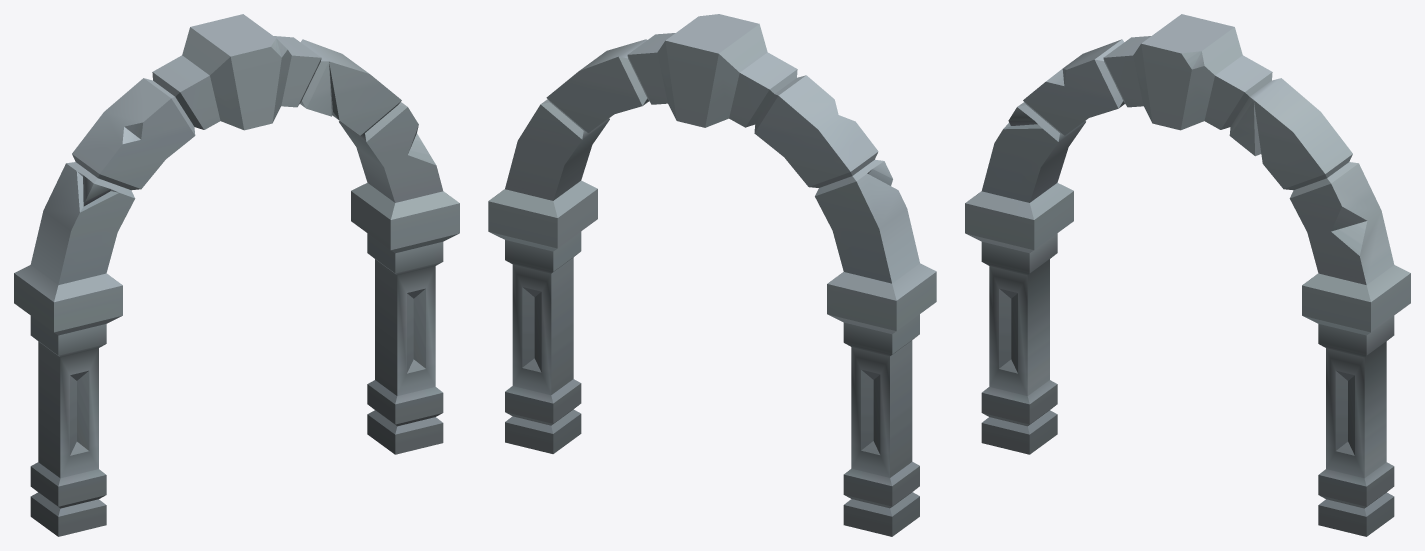
Rendered from arch.glb.
3 views of the same model, side by side, from view 1: azimuth 30°, elevation 25°; view 2: azimuth 150°, elevation 25°; view 3: azimuth 330°, elevation 25° (orthographic).
Visible parts, largest first — view 1: arch; view 2: arch; view 3: arch.
Boxes of the visible parts, <box> form: arch: <box>14,14,459,536</box>; arch: <box>488,14,936,536</box>; arch: <box>965,14,1410,536</box>.
Bounding box in the file's own units: 4.22 × 4.41 × 0.77.
1 material, 1 textured.
